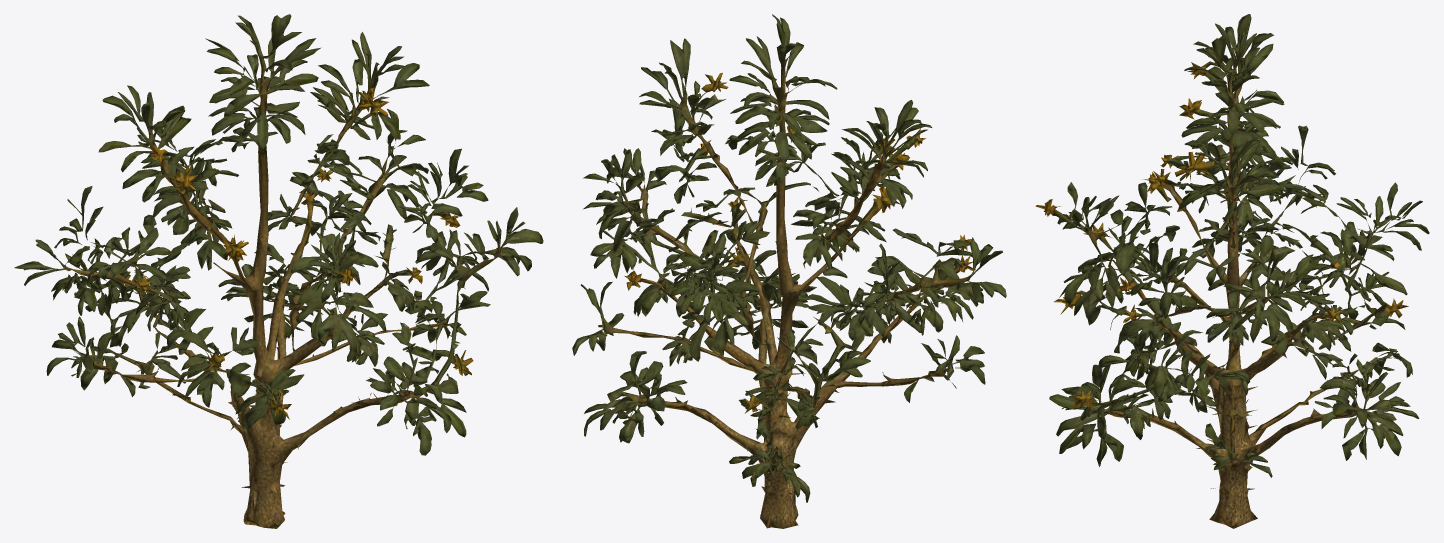
File: MasticLeafPricklyAsh.glb
3 renders of one model, left to right at view 1: azimuth 30°, elevation 25°; view 2: azimuth 150°, elevation 25°; view 3: azimuth 270°, elevation 25°, orthographic. The views are drawn at different scales.
Parts seen in each view (by area): view 1: Mesh_0; view 2: Mesh_0; view 3: Mesh_0.
Boxes of the visible parts, left/top/right/bottom form: Mesh_0: left=14, top=14, right=543, bottom=528; Mesh_0: left=572, top=14, right=1006, bottom=528; Mesh_0: left=1035, top=14, right=1429, bottom=528.
Size of the model in its own units: 0.955 by 1 by 0.7317.
Materials: 1 (1 with a texture image).
